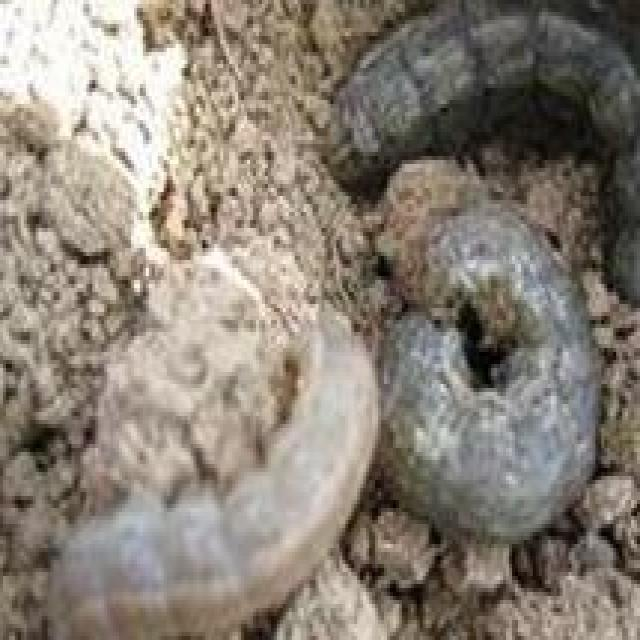black cutworm: (43, 301, 406, 637), (363, 169, 622, 569), (318, 9, 631, 185)
